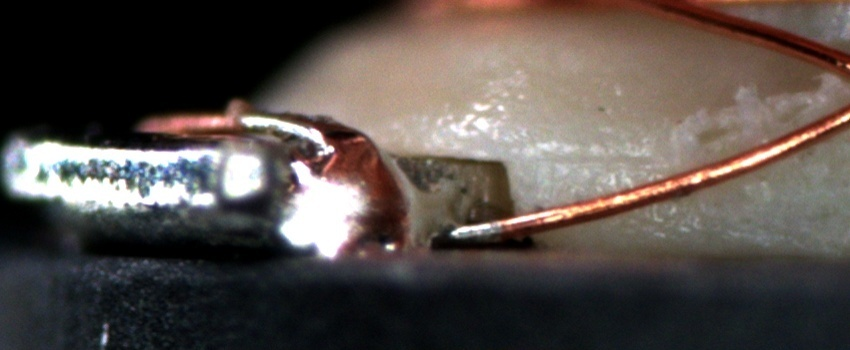DL: (518, 128, 666, 192)
TE: (135, 103, 379, 156)
TS: (442, 219, 501, 240)
